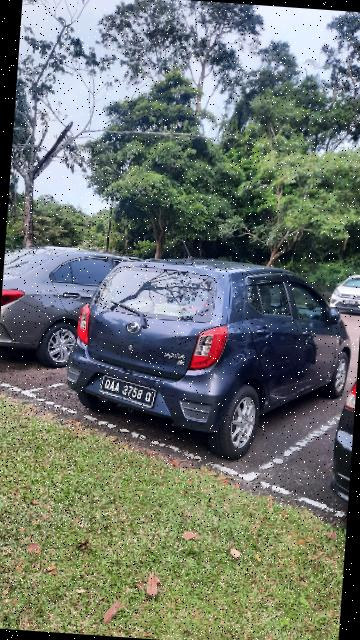License_Plate: (99, 371, 160, 413)
car: (59, 244, 360, 463), (1, 237, 173, 374)
